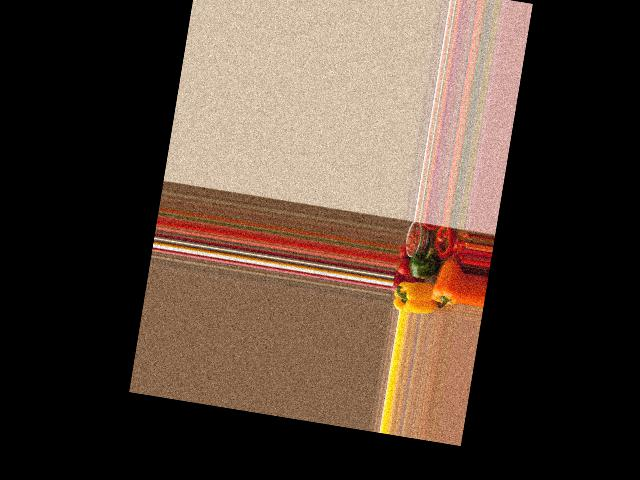bell_pepper: (392, 277, 432, 314)
